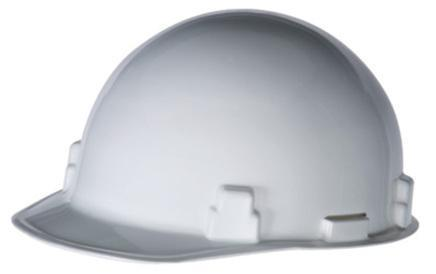helmet: (11, 5, 424, 265)
